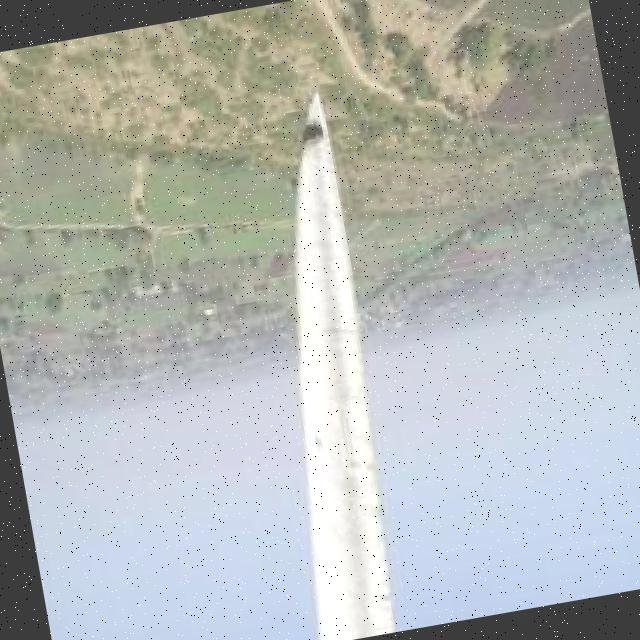Dirt: (313, 92, 400, 639)
Oil LEAKAGE: (301, 119, 325, 145)
Pin Hole: (313, 432, 325, 451)
